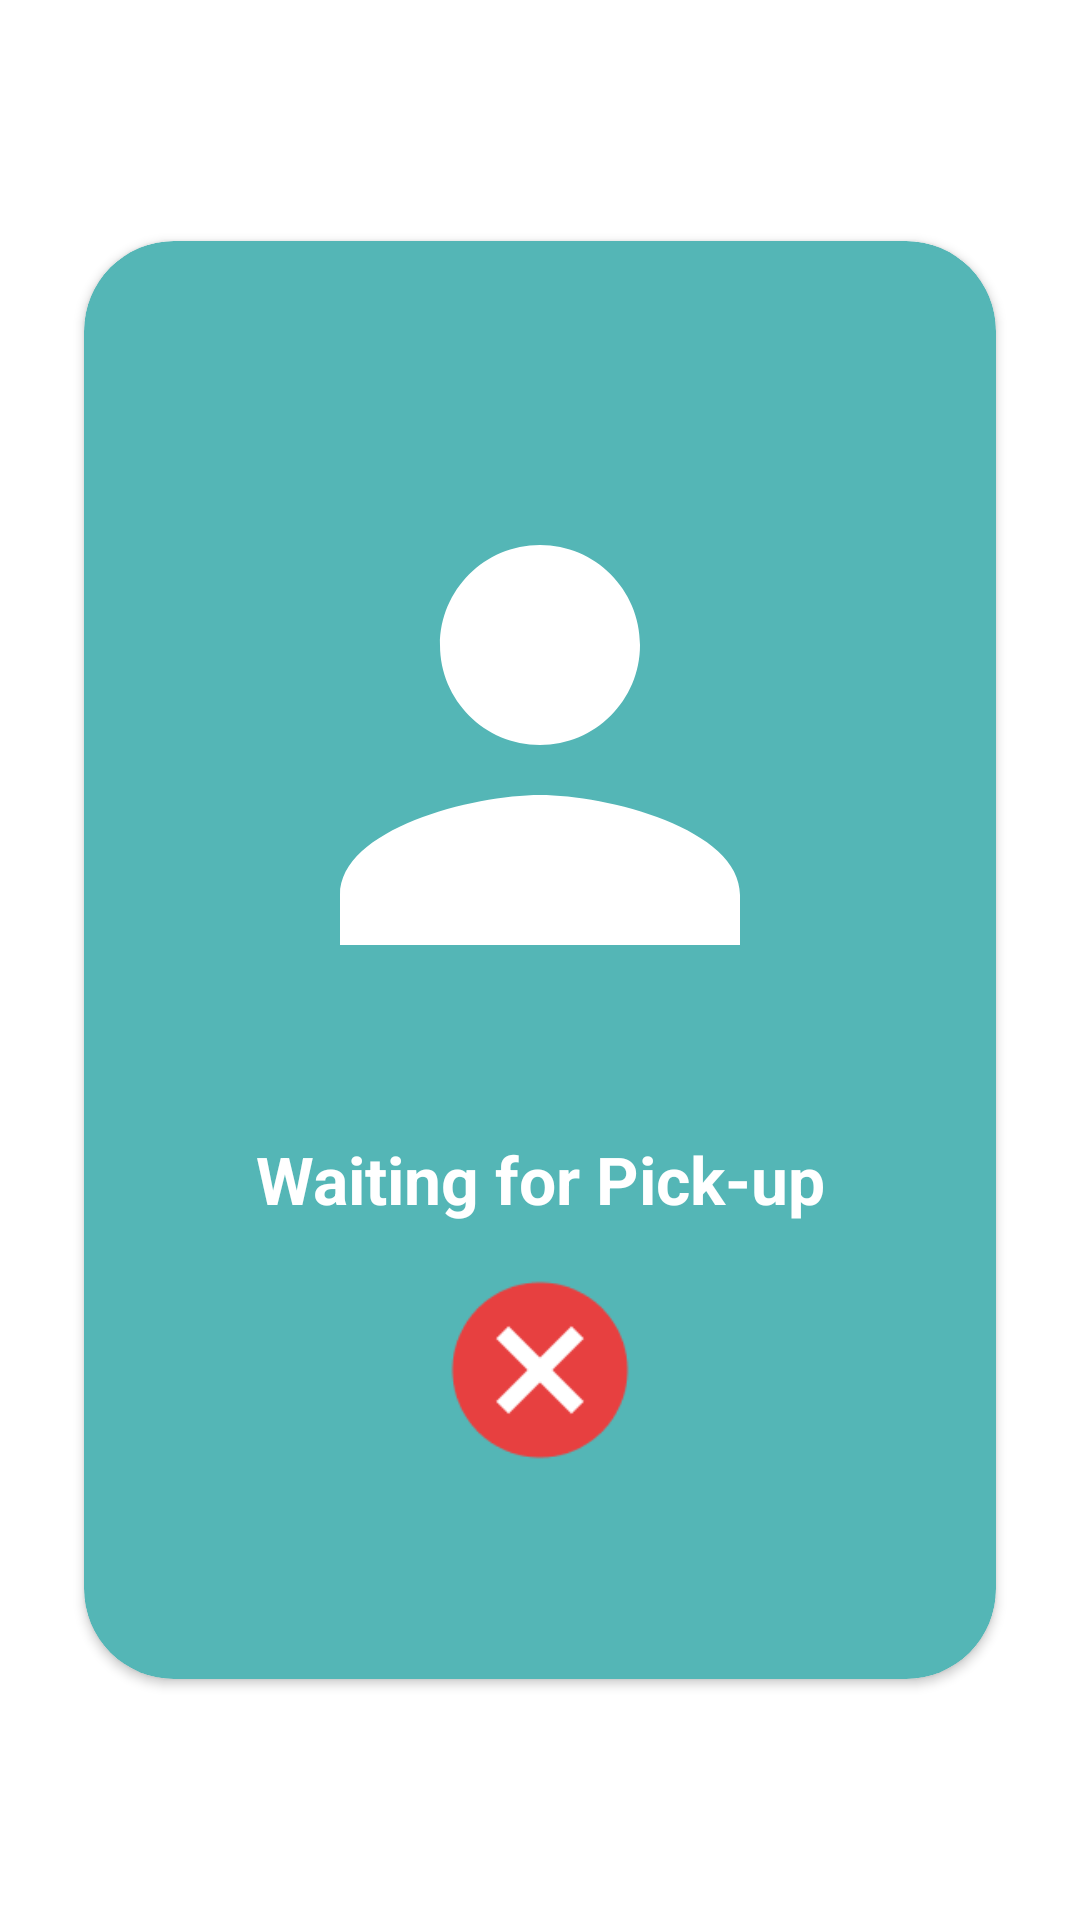

Named icons in this screenshot (1080x1920) and their bounding boxes, (x1, y1, x2, y2):
cancel: (451, 1281, 629, 1459)
